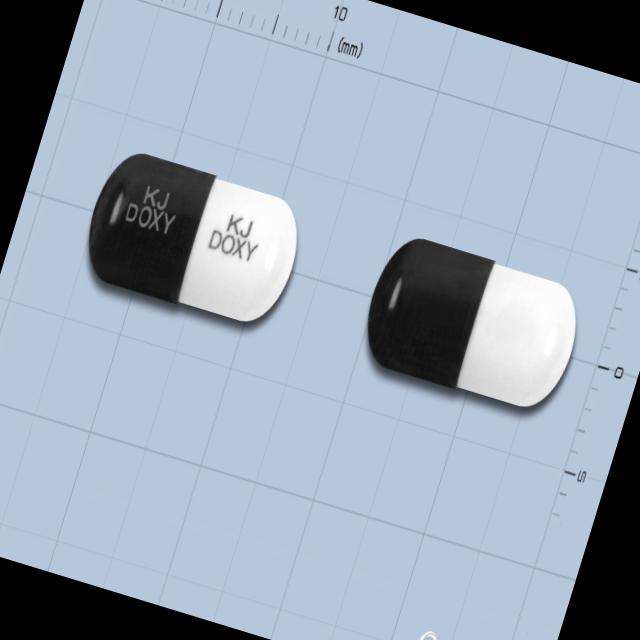Doxycycline Hyclate Cap: (74, 144, 312, 336)
